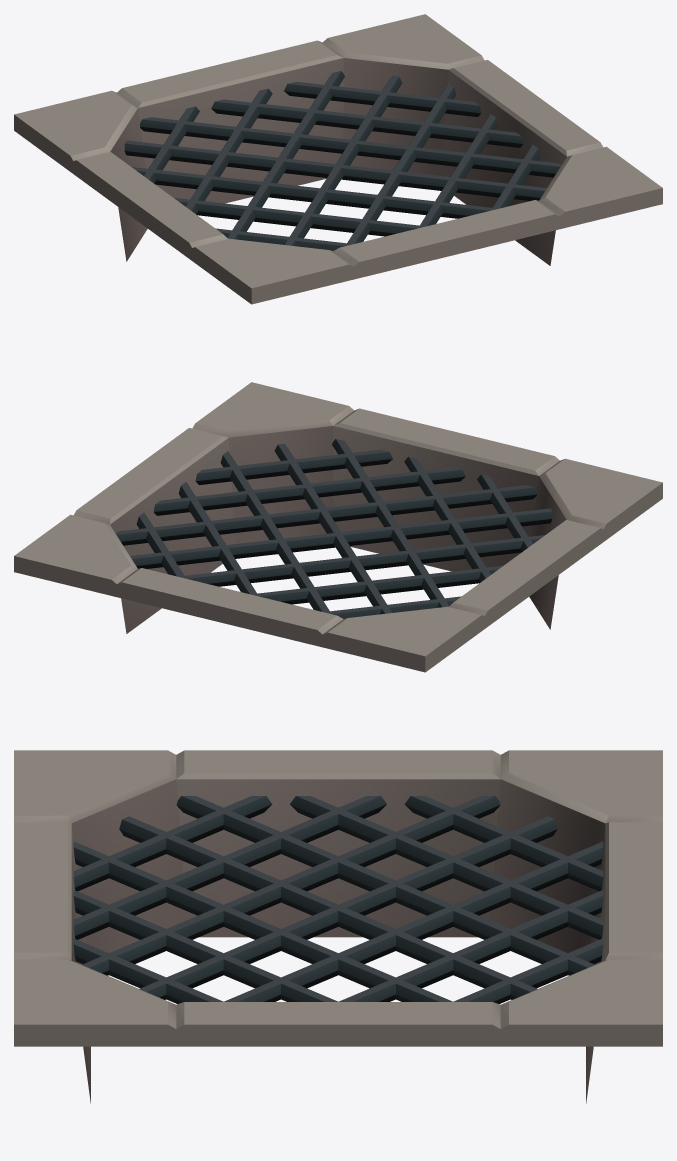
Rendered from floor_tile_big_grate_open.gltf.
3 renders of one model, top to bottom at view 1: azimuth 30°, elevation 25°; view 2: azimuth 150°, elevation 25°; view 3: azimuth 270°, elevation 25°, orthographic. The views are drawn at different scales.
Visible parts, largest first — view 1: floor_tile_big_grate_open; view 2: floor_tile_big_grate_open; view 3: floor_tile_big_grate_open.
Boxes of the visible parts, left/top/right/bottom form: floor_tile_big_grate_open: left=14, top=14, right=662, bottom=304; floor_tile_big_grate_open: left=14, top=382, right=662, bottom=672; floor_tile_big_grate_open: left=14, top=750, right=662, bottom=1103.
Bounding box in the file's own units: 4 × 1.05 × 4.
Materials: 1 (1 with a texture image).
